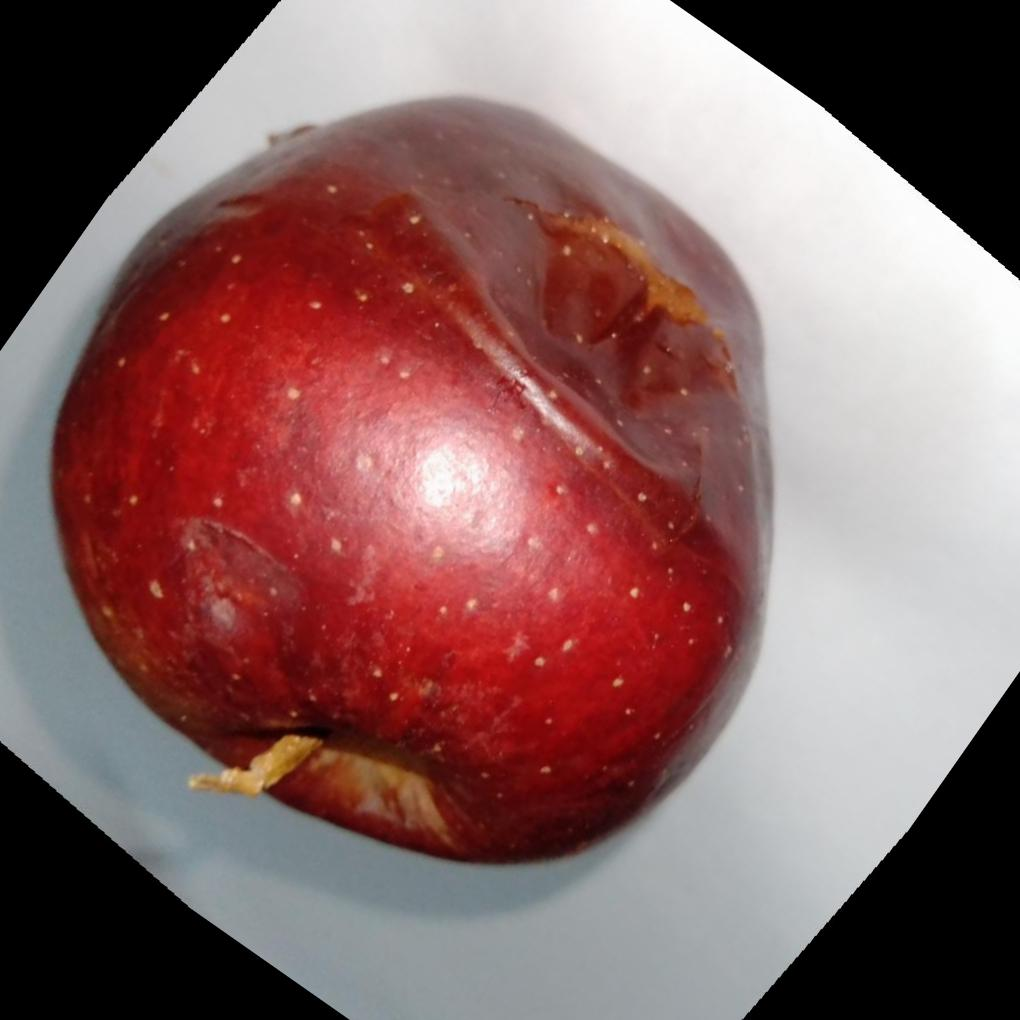FreshOrange: (47, 91, 778, 864)
